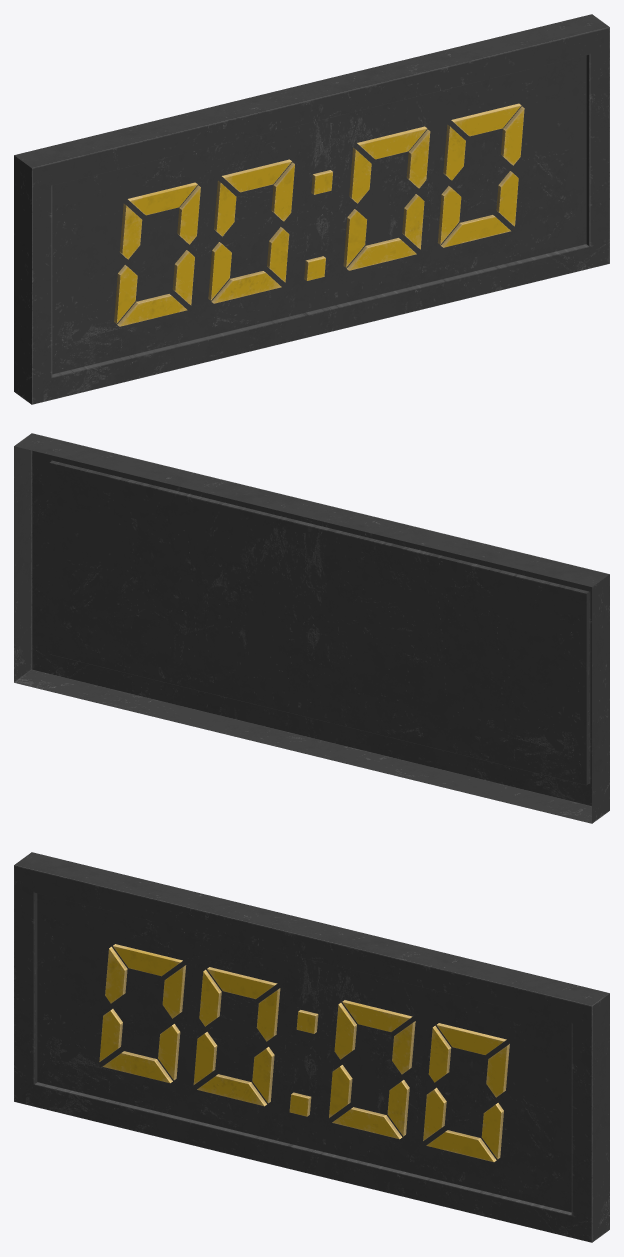
File: mesh_clock_02.FBX
3 renders of one model, top to bottom at view 1: azimuth 30°, elevation 25°; view 2: azimuth 150°, elevation 25°; view 3: azimuth 330°, elevation 25°, orthographic.
Parts seen in each view (by area): view 1: mesh_clock_02; view 2: mesh_clock_02; view 3: mesh_clock_02.
Part boxes in pixels (x1=…): mesh_clock_02: x1=14, y1=14, x2=609, y2=404; mesh_clock_02: x1=14, y1=433, x2=609, y2=823; mesh_clock_02: x1=14, y1=852, x2=609, y2=1242.
Bounding box in the file's own units: 2.29 × 0.8962 × 0.1225.
1 material, 1 textured.
